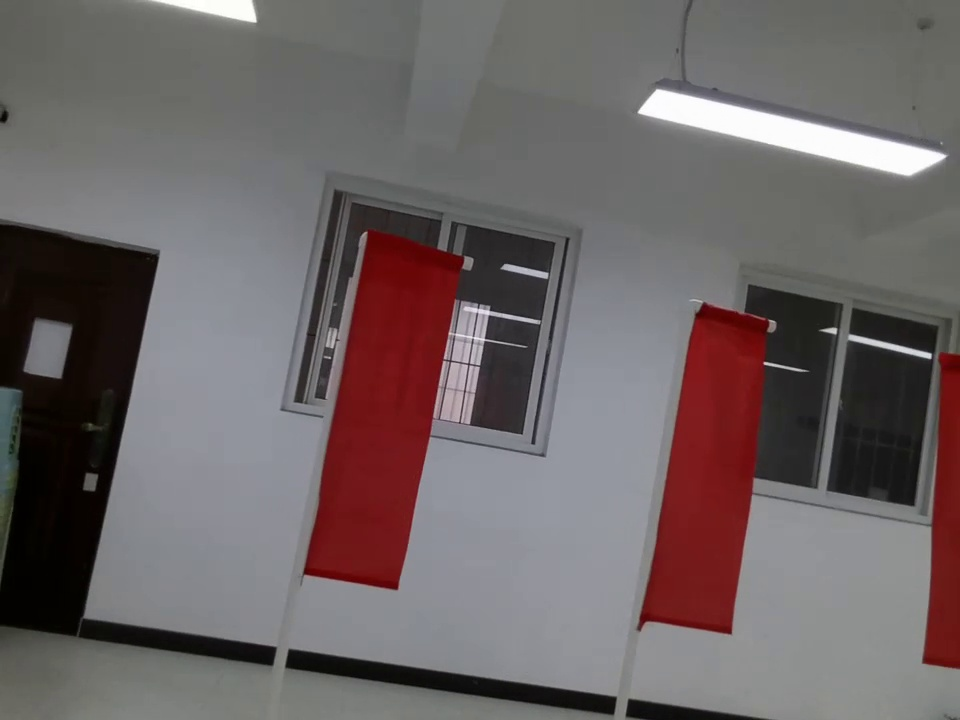qi: (288, 227, 466, 636), (633, 272, 776, 677), (927, 342, 960, 670)
